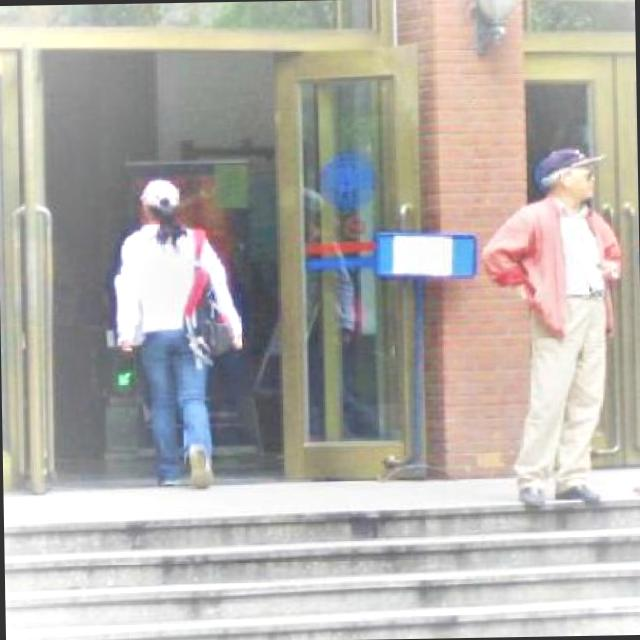Person: (479, 144, 633, 514), (106, 173, 246, 492)
